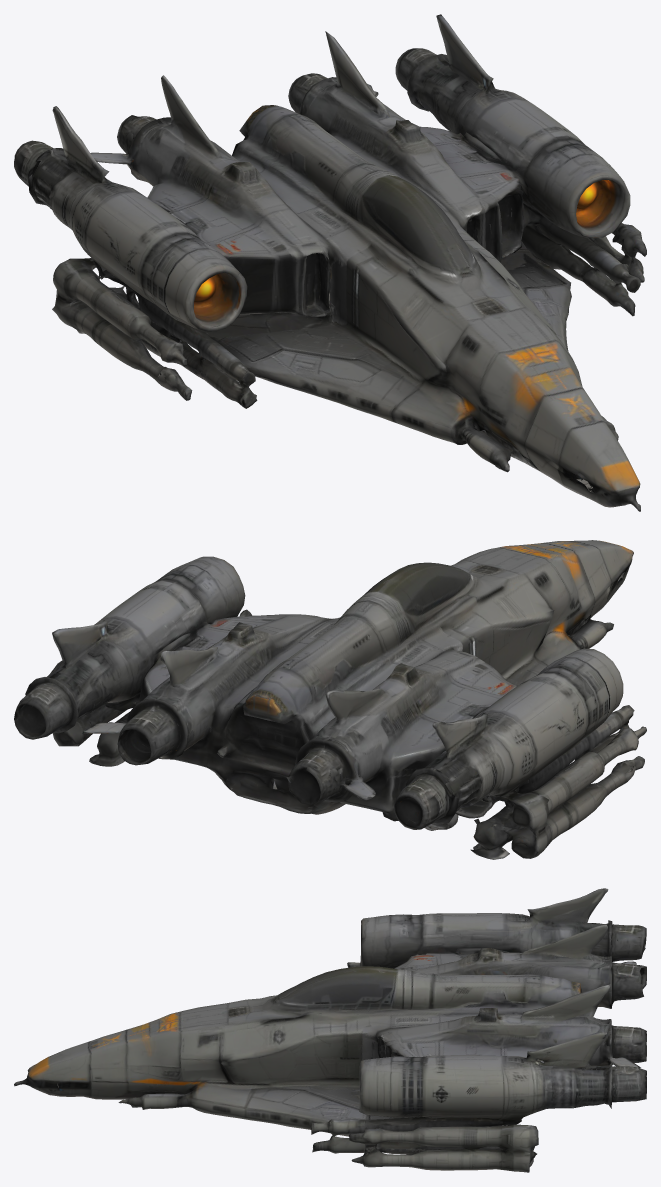
The model's file is valkyrie.glb.
The picture shows the model from 3 angles, top to bottom: view 1: azimuth 30°, elevation 25°; view 2: azimuth 150°, elevation 25°; view 3: azimuth 270°, elevation 25°; orthographic projection. The views are drawn at different scales.
Size of the model in its own units: 1.35 by 0.5324 by 1.99.
1 material, 1 textured.
